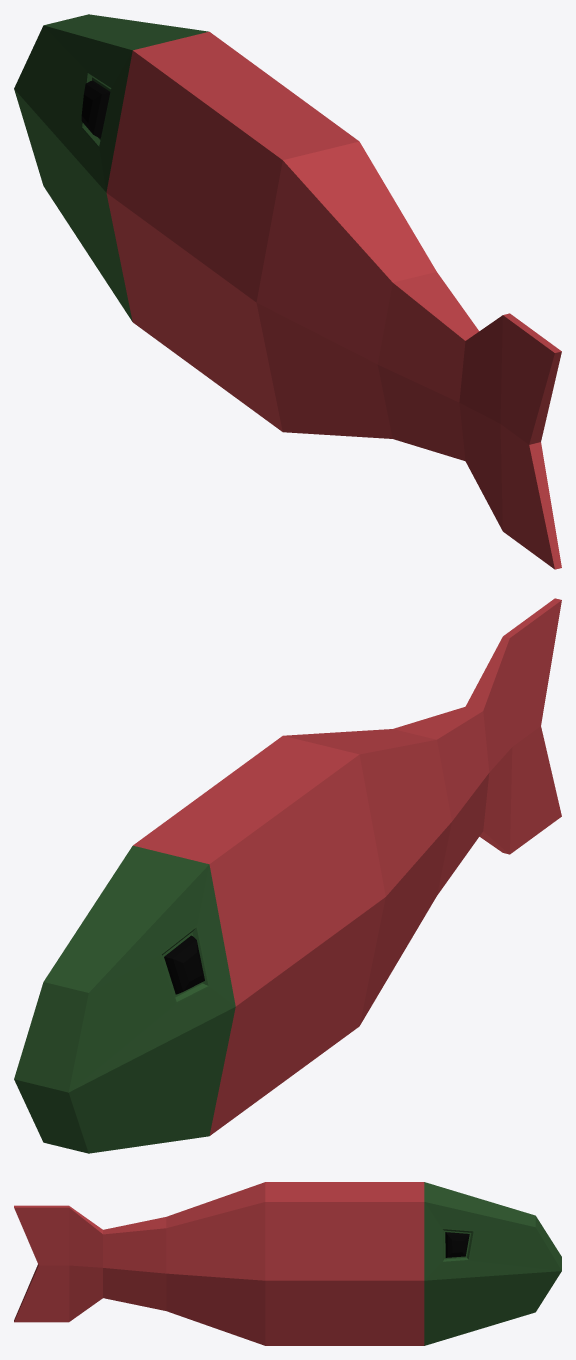
Rendered from Salmon.fbx.
3 renders of one model, top to bottom at view 1: azimuth 30°, elevation 25°; view 2: azimuth 150°, elevation 25°; view 3: azimuth 270°, elevation 25°, orthographic. The views are drawn at different scales.
Parts seen in each view (by area): view 1: Fish; view 2: Fish; view 3: Fish.
Boxes of the visible parts, x1,y1,x2,y2 form: Fish: [14, 14, 561, 569]; Fish: [14, 598, 561, 1153]; Fish: [14, 1182, 561, 1345].
Bounding box in the file's own units: 16.98 × 34.12 × 118.
